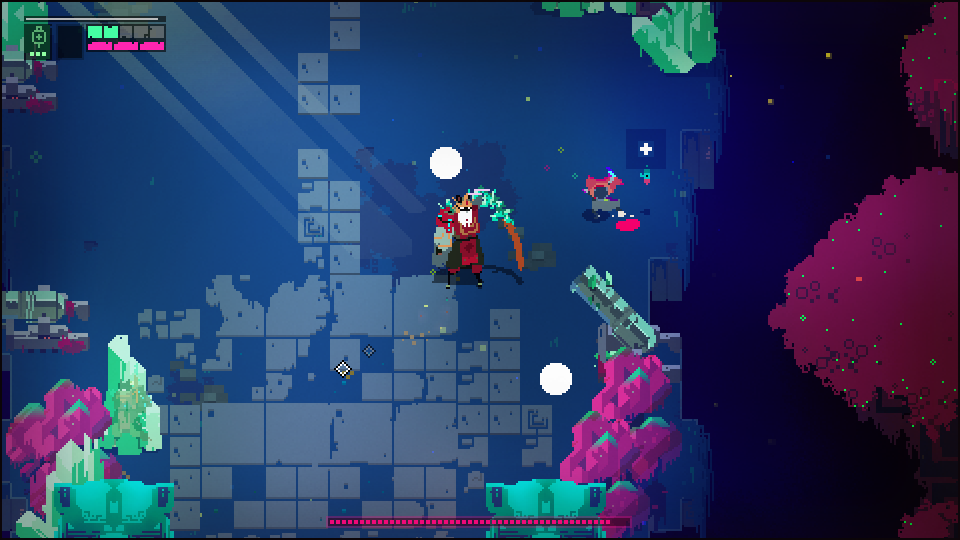hanged_man: (434, 187, 519, 282)
player: (583, 169, 621, 218)
